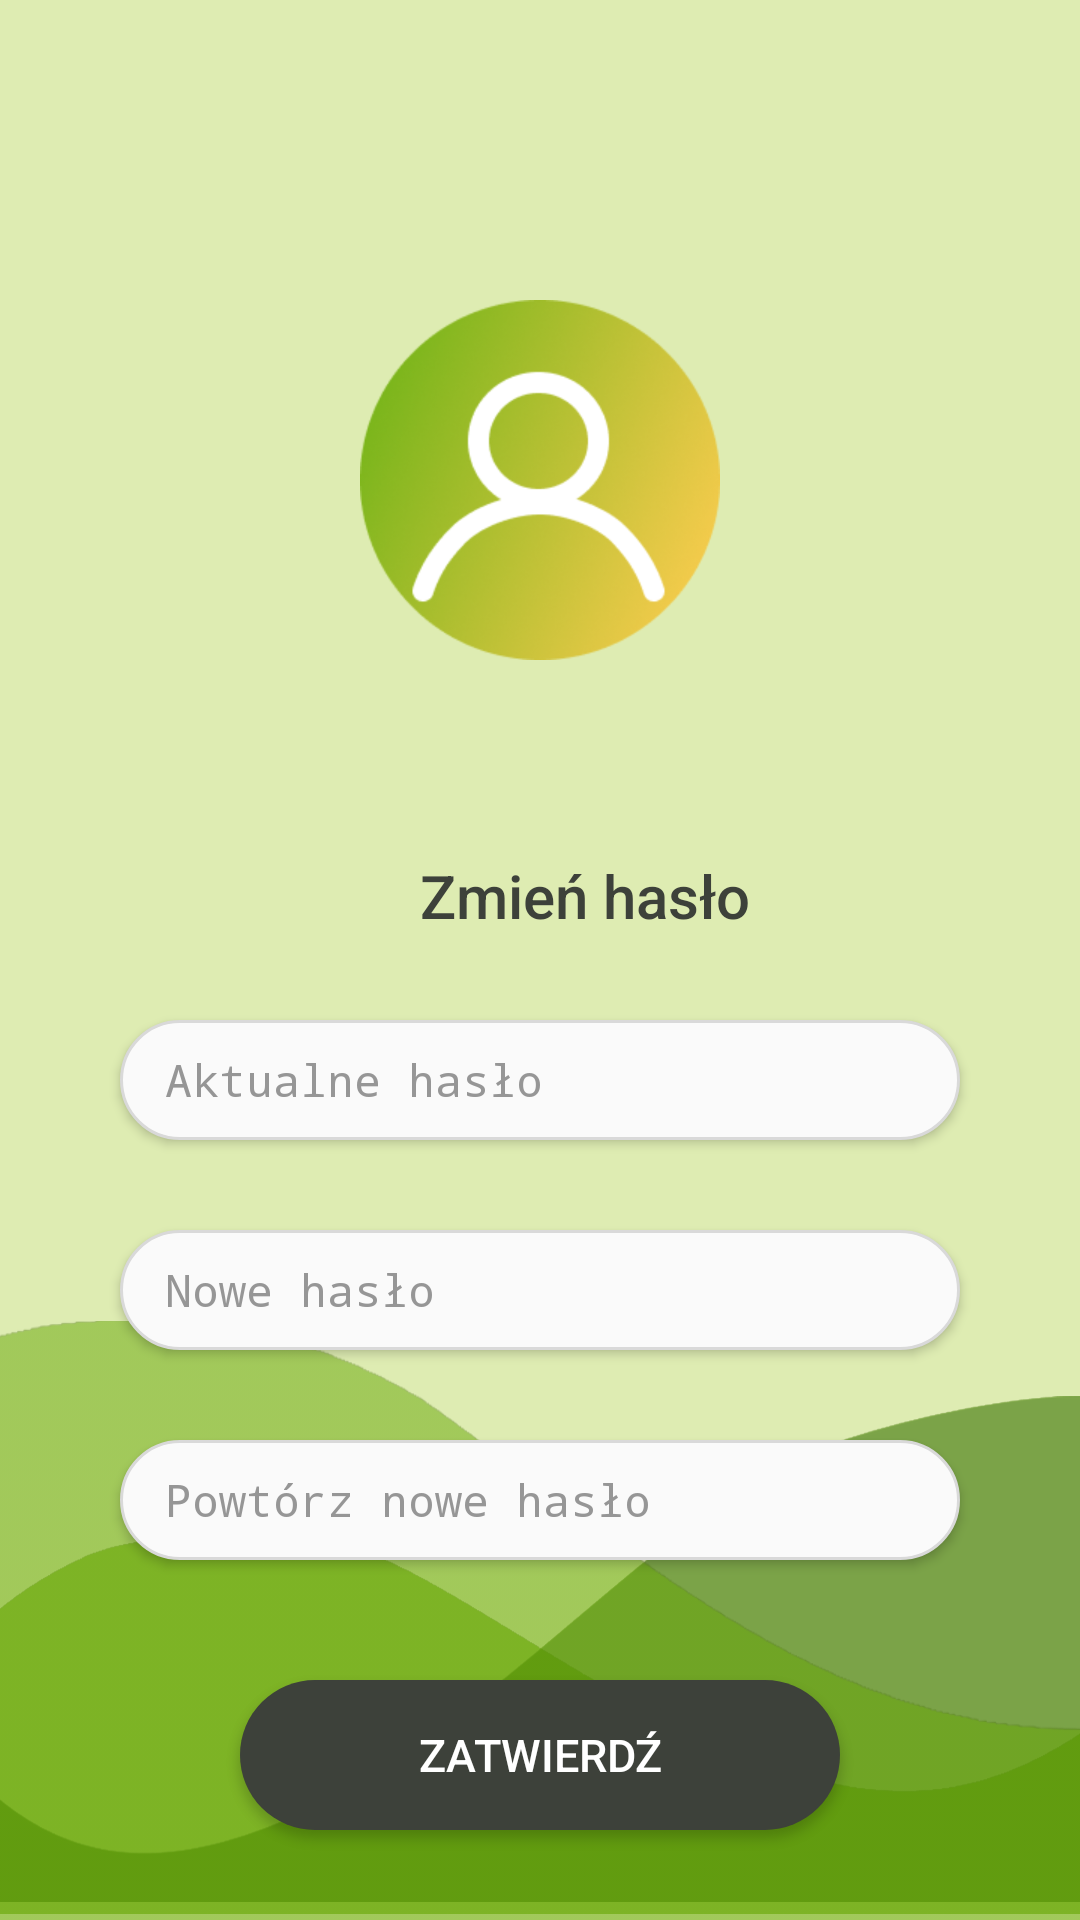

Icon bounding boxes for this 1080×1920 phone screenshot, format (x1, y1, x2, y2):
user: (360, 300, 720, 660)
